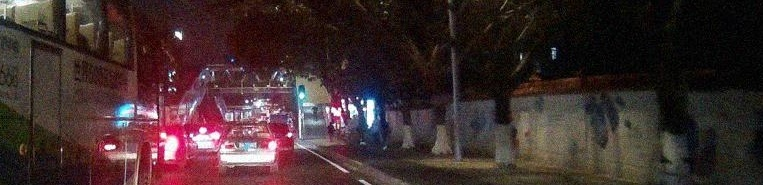L_light: (220, 141, 235, 148)
R_light: (260, 140, 277, 149)
T_light: (244, 125, 255, 128)
night-right: (218, 124, 279, 173)
